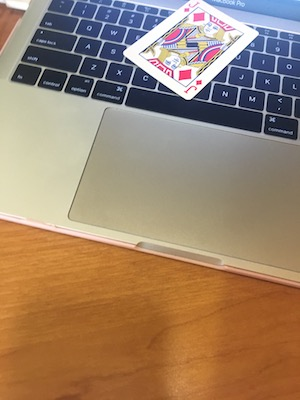JackOfDiamonds: (126, 1, 262, 102)
